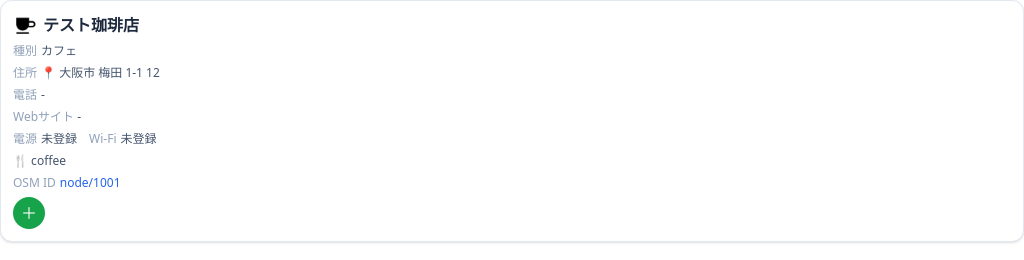
Test: まちメモ帳ボタン（第2ピース） › ボタンで追加でき、表示が「メモ帳から削除」に変わる（aria-pressed も更新）
This screenshot has width=1024, height=260.
What coordinates should you click on to do the following:
click the button named "メモ帳に追加"
I would click on:
 (29, 213)
Its box is [13, 197, 45, 229].
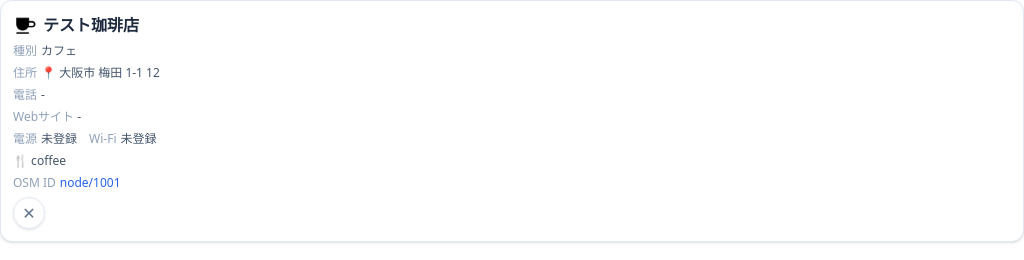
expect the button named "メモ帳から削除" reads "✕": met, box [13, 197, 45, 229]
